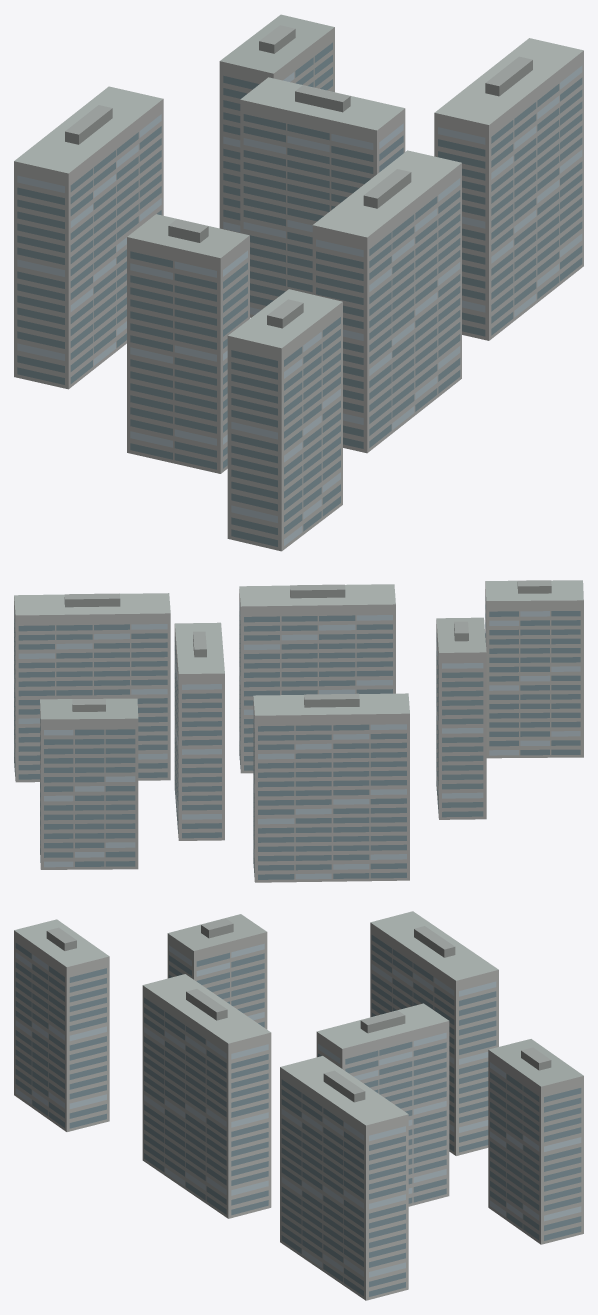
File: apt-a13293505.glb
3 views of the same model, one above another, from view 1: azimuth 30°, elevation 25°; view 2: azimuth 150°, elevation 25°; view 3: azimuth 270°, elevation 25° (orthographic). The views are drawn at different scales.
Parts seen in each view (by area): view 1: apt-a13293505; view 2: apt-a13293505; view 3: apt-a13293505.
Boxes of the visible parts, x1=… form: apt-a13293505: x1=14, y1=14, x2=583, y2=551; apt-a13293505: x1=14, y1=580, x2=583, y2=882; apt-a13293505: x1=14, y1=911, x2=583, y2=1300.
Bounding box in the file's own units: 129 × 51 × 144.
